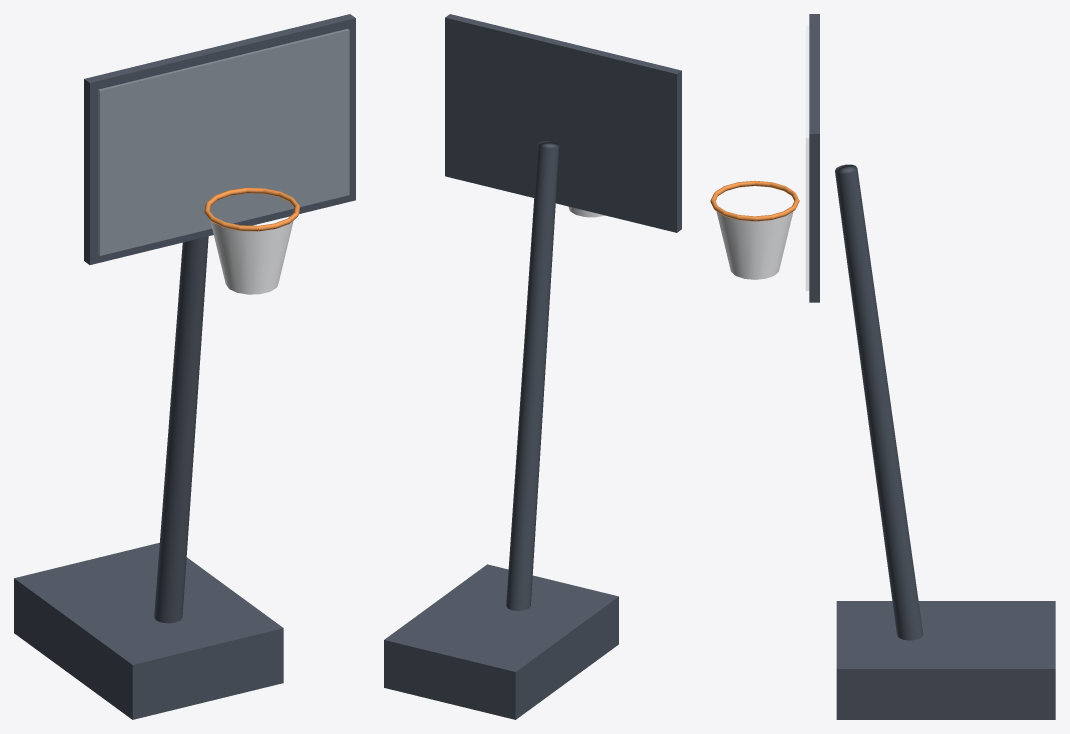
Rendered from prop_basketball_hoop.glb.
3 views of the same model, side by side, from view 1: azimuth 30°, elevation 25°; view 2: azimuth 150°, elevation 25°; view 3: azimuth 270°, elevation 25° (orthographic). The views are drawn at different scales.
Visible parts, largest first — view 1: primary_color, backboard_glass, net, rim; view 2: primary_color; view 3: primary_color, net, rim, backboard_glass.
Boxes of the visible parts, x1=… form: primary_color: x1=14, y1=14, x2=355, y2=719; backboard_glass: x1=98, y1=29, x2=349, y2=255; net: x1=210, y1=220, x2=293, y2=294; rim: x1=204, y1=187, x2=300, y2=231; primary_color: x1=384, y1=14, x2=681, y2=719; primary_color: x1=809, y1=14, x2=1055, y2=719; net: x1=716, y1=211, x2=793, y2=279; rim: x1=710, y1=180, x2=799, y2=221; backboard_glass: x1=806, y1=26, x2=808, y2=290.
Bounding box in the file's own units: 1.62 × 3.85 × 1.97.
4 materials, 1 textured.
